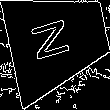N_E: (34, 15, 82, 66)
